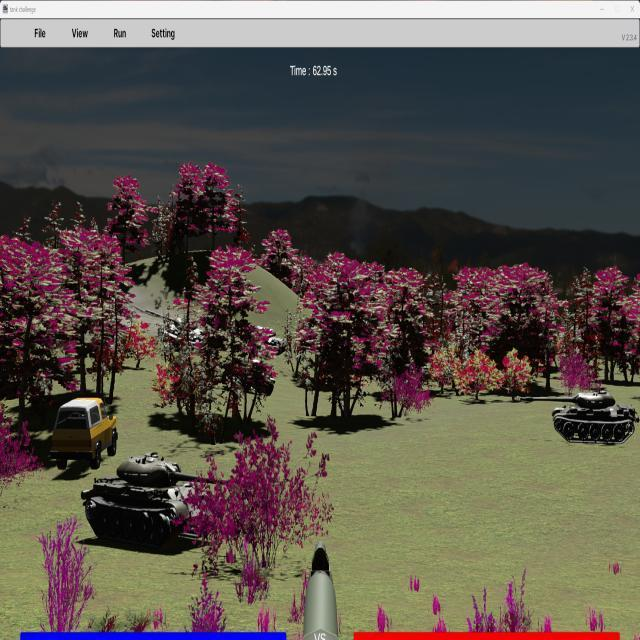Tank: (81, 452, 238, 551), (513, 390, 639, 444)
car: (49, 397, 118, 470)
